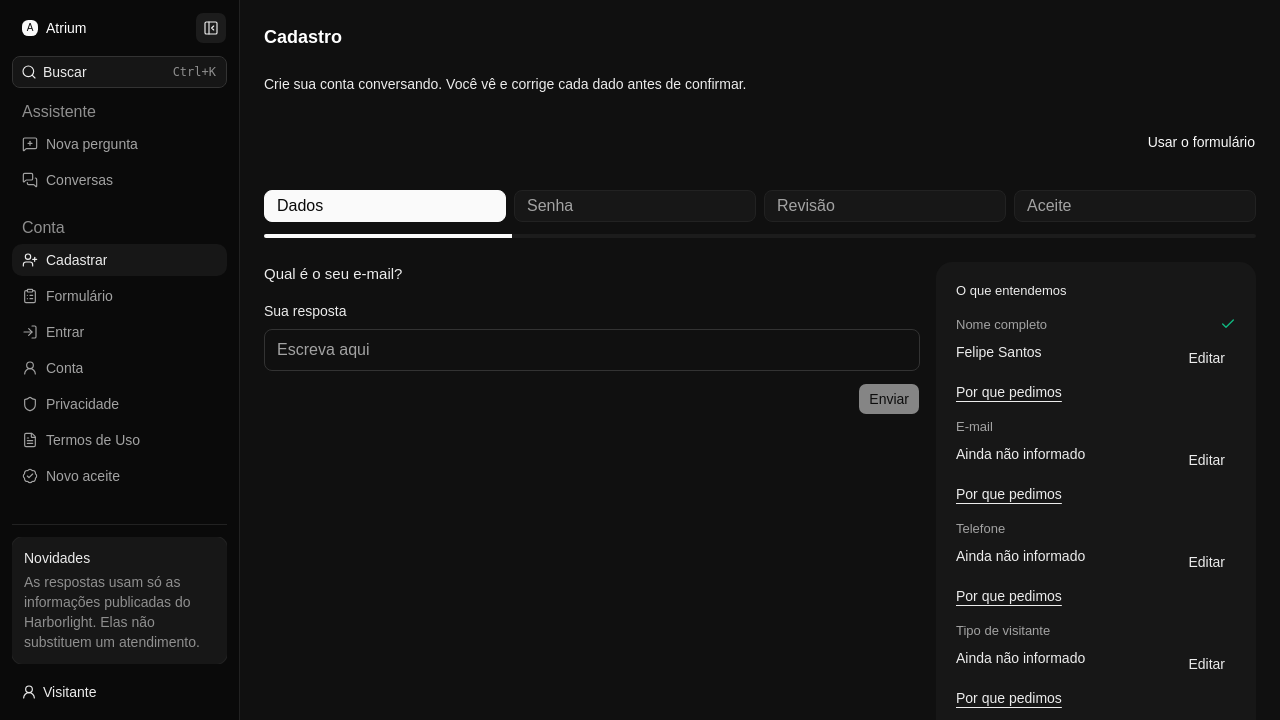
it: telas do cadastro › uma dúvida permanece no chat e recebe outra resposta
Type "O que seria o melhor email?" into the text box labelled "Sua resposta". click: (592, 350)
box: x1=264 y1=329 x2=920 y2=371
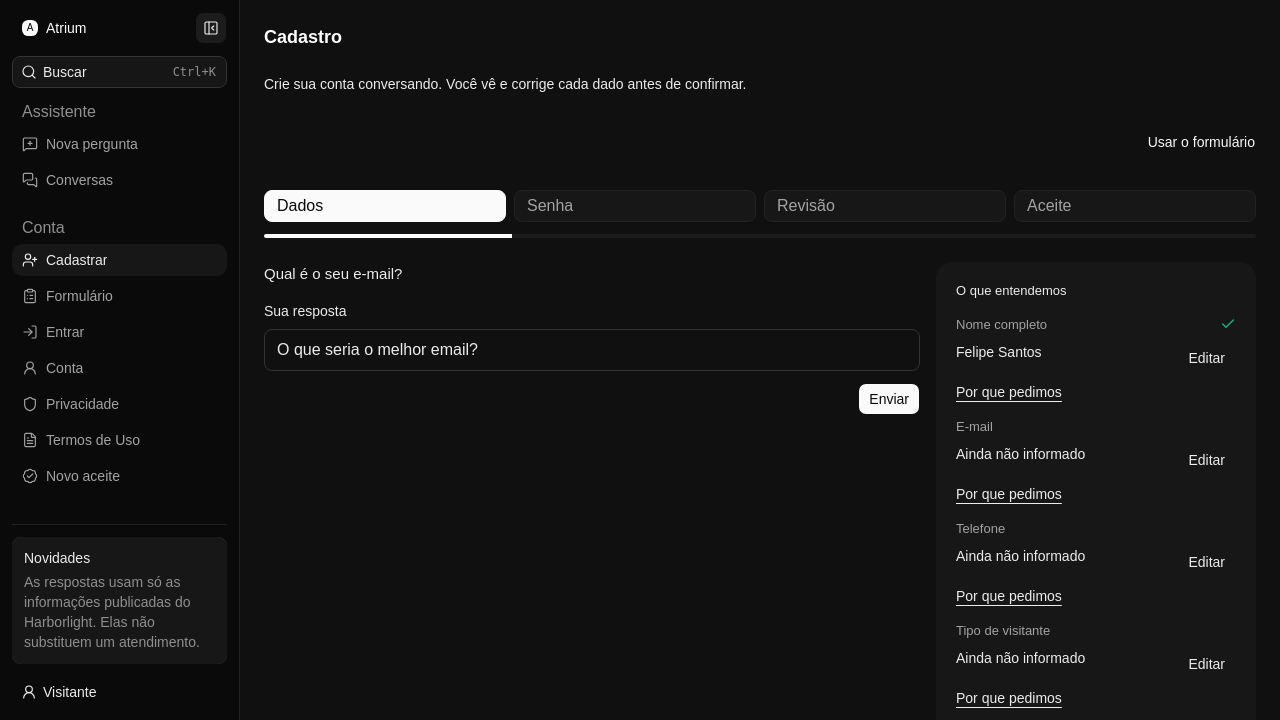
Click the button "Enviar". click: click(889, 399)
box: x1=858 y1=383 x2=920 y2=415
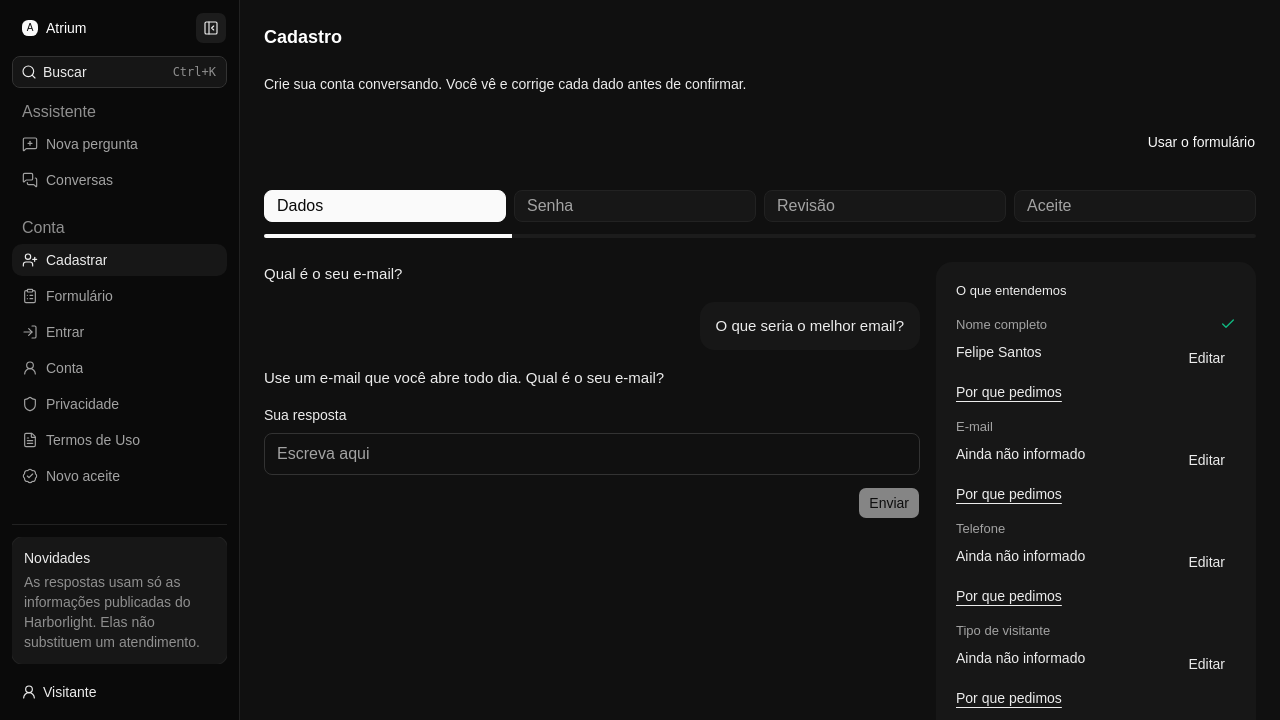
Expected: the link "Usar o formulário" is shown, x1=1148 y1=134 x2=1255 y2=150
Expected: the text "Use um e-mail que você abre todo dia. Qual é o seu e-mail?" is shown 2 times
